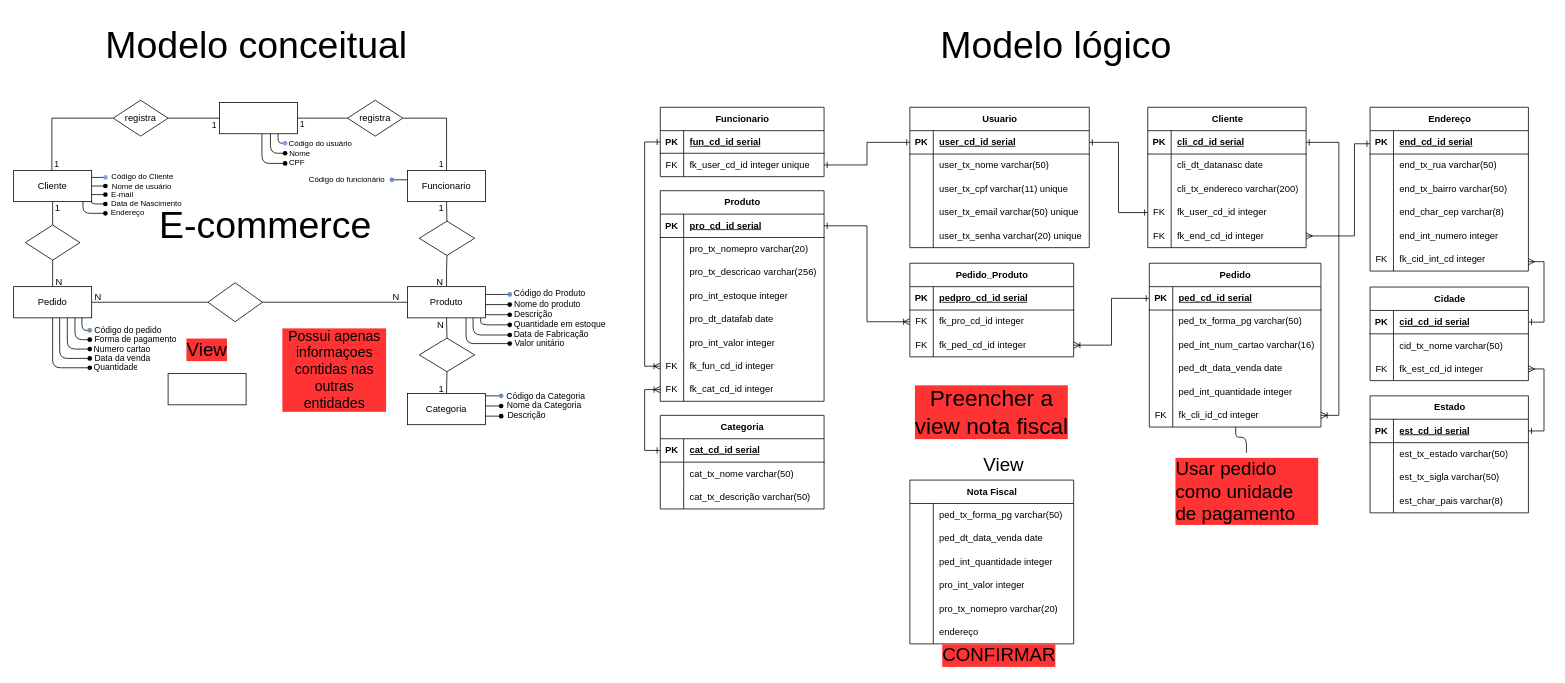
The diagram is 1565 pixels wide and 683 high, and some of its shapes have lost their labels. Here are the shapes that lost their labels. From the top down, the centre of each, then its label:
[258,118]: Usuário
[52,242]: realiza
[446,237]: cadastra
[234,302]: contém
[446,354]: pertence
[206,389]: NotaFiscal
